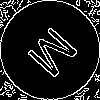M: (25, 25, 87, 86)
